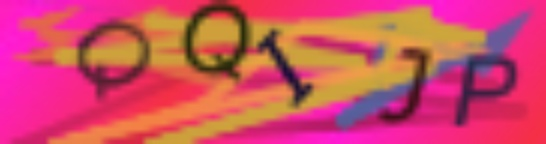I: (250, 25, 320, 109)
J: (371, 41, 439, 128)
P: (449, 52, 521, 132)
Q: (73, 18, 155, 103), (180, 2, 256, 81)
